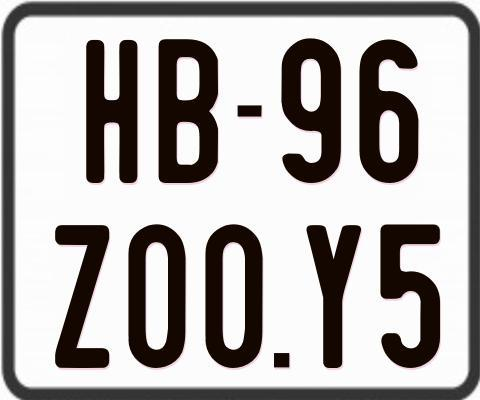0: (127, 222, 190, 368), (203, 221, 265, 367)
5: (380, 224, 444, 368)
6: (357, 39, 420, 183)
9: (279, 35, 341, 186)
B: (157, 38, 219, 185)
H: (83, 40, 139, 189)
Y: (306, 224, 360, 371)
Z: (54, 223, 113, 370)
